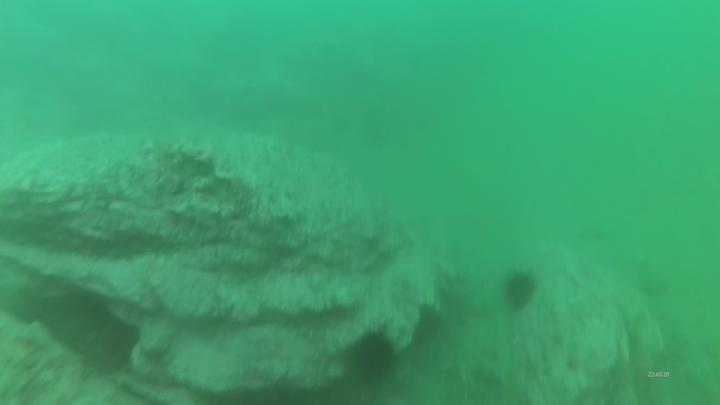echinus: (350, 327, 398, 387), (501, 270, 540, 312)
